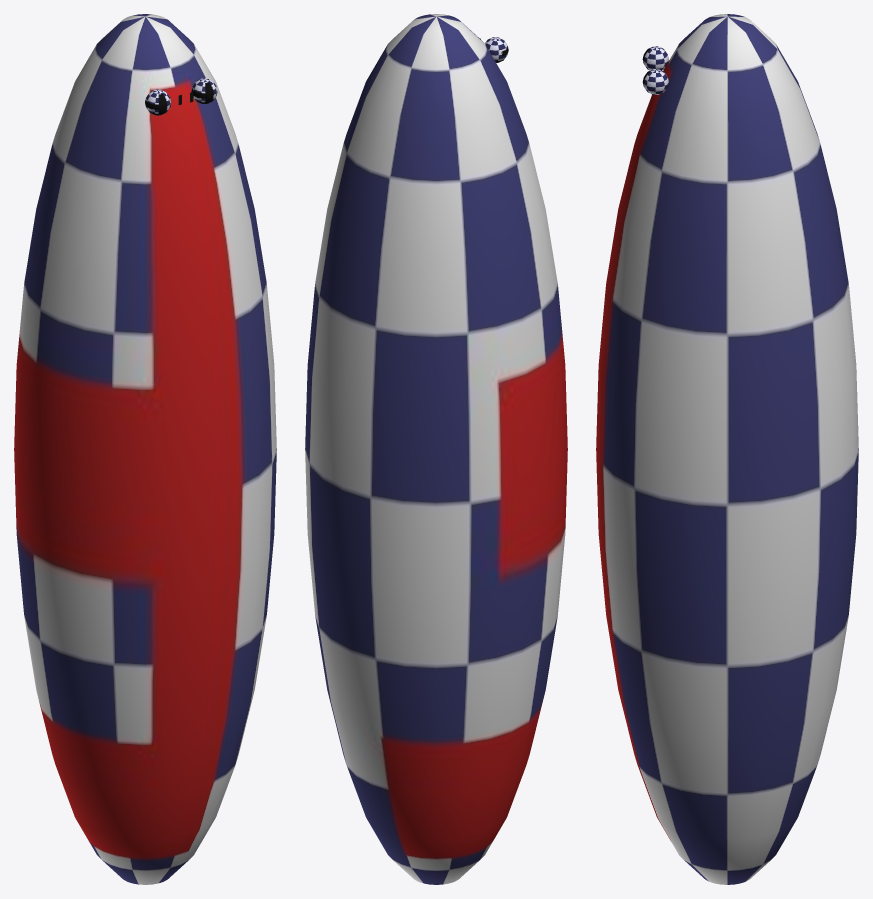
The picture shows the model from 3 angles, left to right: view 1: azimuth 30°, elevation 25°; view 2: azimuth 150°, elevation 25°; view 3: azimuth 270°, elevation 25°; orthographic projection.
Visible parts, largest first — view 1: body, eyeL, eyeR; view 2: body; view 3: body, eyeR.
Part boxes in pixels (bbox=[...]): body: bbox=[14, 14, 276, 884]; eyeL: bbox=[145, 89, 170, 115]; eyeR: bbox=[191, 78, 217, 104]; body: bbox=[305, 14, 567, 884]; body: bbox=[596, 14, 858, 884]; eyeR: bbox=[642, 69, 668, 94].
Size of the model in its own units: 0.44 by 1.6 by 0.44.
3 materials, 3 textured.
